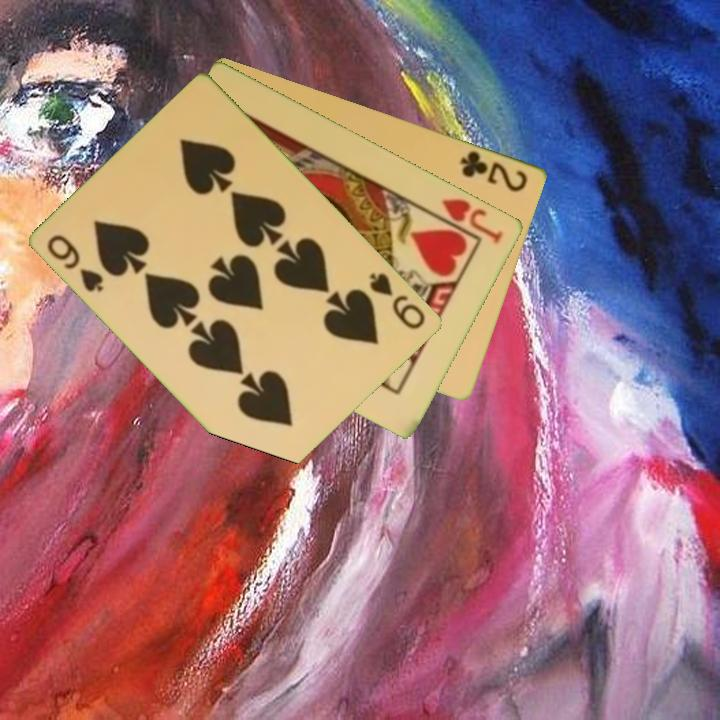2c: (456, 147, 531, 195)
9s: (44, 231, 108, 295), (366, 269, 429, 333)
Jh: (439, 194, 507, 247)
